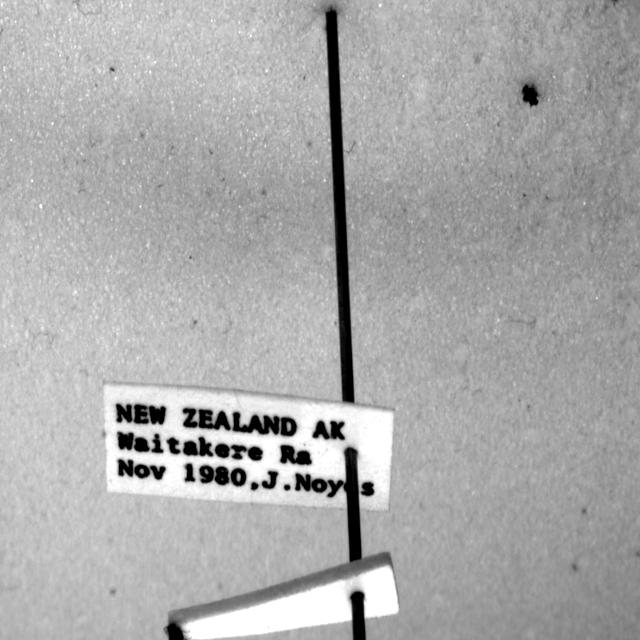typed_label: (104, 382, 394, 510)
